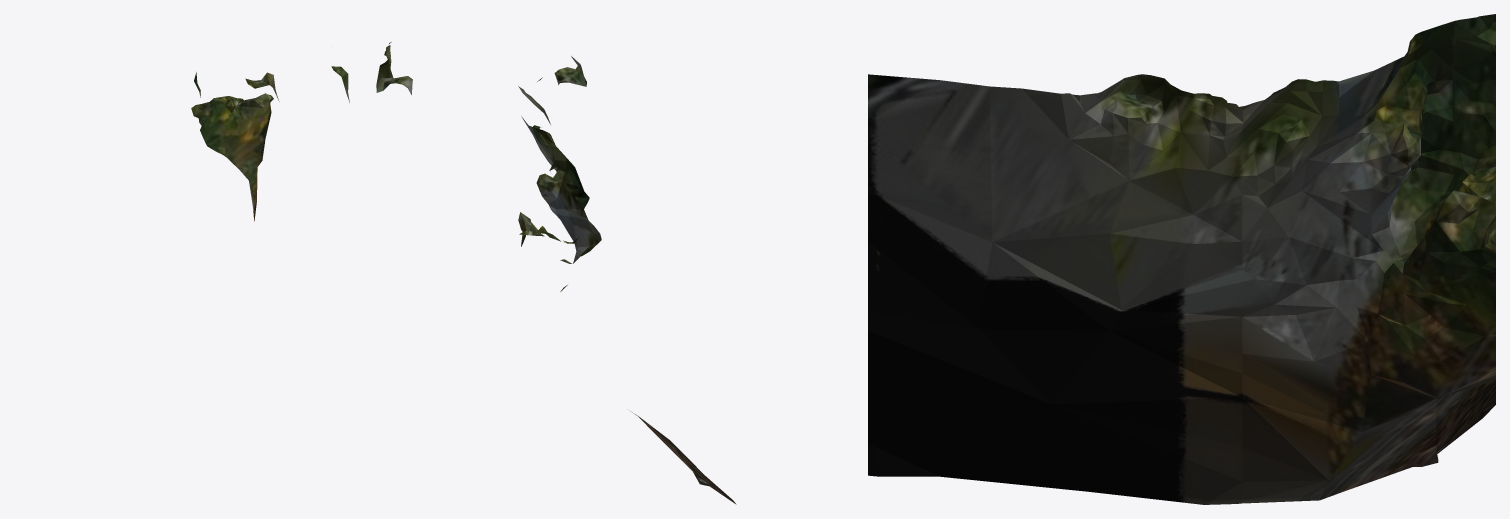
3 renders of one model, left to right at view 1: azimuth 30°, elevation 25°; view 2: azimuth 150°, elevation 25°; view 3: azimuth 270°, elevation 25°, orthographic. The views are drawn at different scales.
Size of the model in its own units: 3.25 by 3.35 by 3.35.
3 materials, 3 textured.
